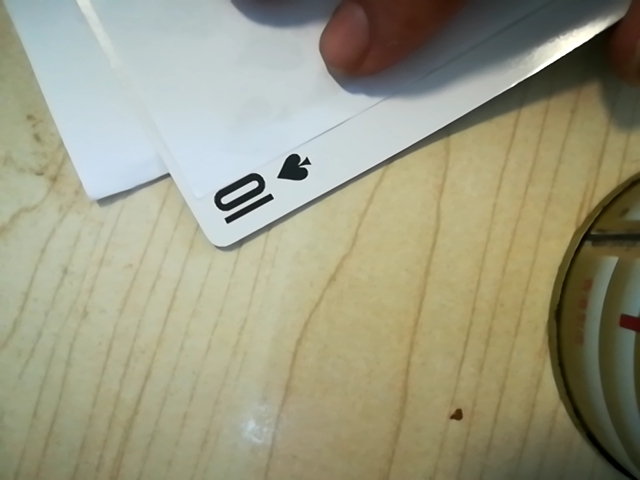ht 10: (201, 137, 332, 234)
